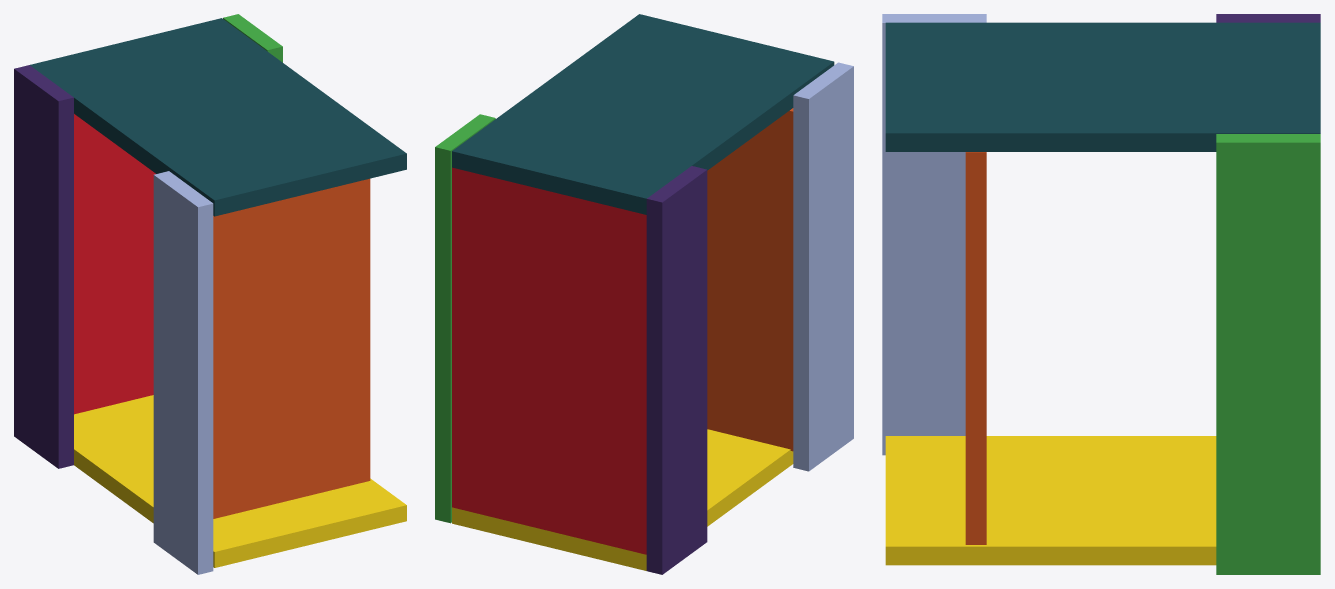
Rendered from tinker.obj.
3 renders of one model, left to right at view 1: azimuth 30°, elevation 25°; view 2: azimuth 150°, elevation 25°; view 3: azimuth 270°, elevation 25°, orthographic. The views are drawn at different scales.
Visible parts, largest first — view 1: group_0_14900002, group_0_1855578, group_0_11452141, group_0_4796018, group_0_15277357, group_0_16768282, group_0_4634441; view 2: group_0_15277357, group_0_1855578, group_0_14900002, group_0_4796018, group_0_11452141, group_0_16768282, group_0_4634441; view 3: group_0_1855578, group_0_4634441, group_0_16768282, group_0_11452141, group_0_14900002, group_0_4796018.
Boxes of the visible parts, left/top/right/bottom form: group_0_14900002: left=213, top=178, right=370, bottom=518; group_0_1855578: left=30, top=18, right=406, bottom=216; group_0_11452141: left=153, top=171, right=213, bottom=574; group_0_4796018: left=14, top=65, right=73, bottom=468; group_0_15277357: left=74, top=114, right=155, bottom=414; group_0_16768282: left=74, top=395, right=406, bottom=567; group_0_4634441: left=223, top=14, right=282, bottom=62; group_0_15277357: left=452, top=167, right=646, bottom=554; group_0_1855578: left=452, top=14, right=834, bottom=214; group_0_14900002: left=707, top=108, right=793, bottom=451; group_0_4796018: left=646, top=166, right=707, bottom=574; group_0_11452141: left=793, top=62, right=853, bottom=471; group_0_16768282: left=452, top=429, right=793, bottom=570; group_0_4634441: left=435, top=114, right=495, bottom=523; group_0_1855578: left=885, top=22, right=1320, bottom=151; group_0_4634441: left=1216, top=134, right=1320, bottom=574; group_0_16768282: left=885, top=436, right=1216, bottom=565; group_0_11452141: left=882, top=14, right=986, bottom=455; group_0_14900002: left=965, top=152, right=986, bottom=544; group_0_4796018: left=1216, top=14, right=1320, bottom=22.
Bounding box in the file's own units: 177 × 275 × 252.
